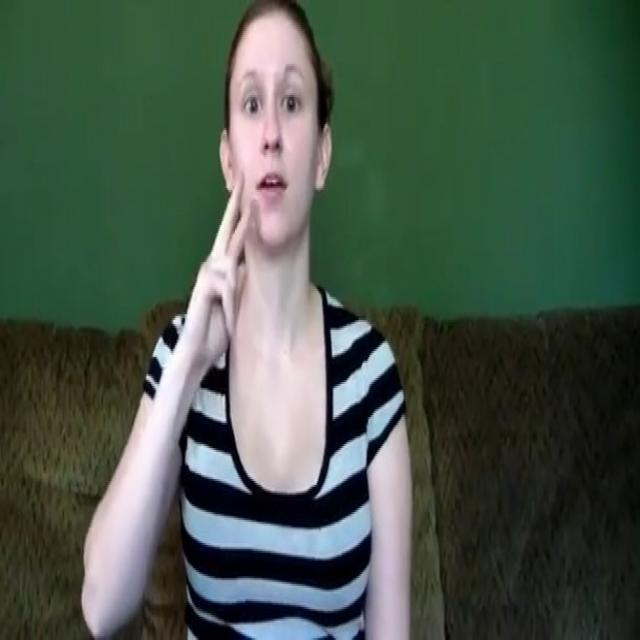vegetables: (191, 169, 266, 380)
